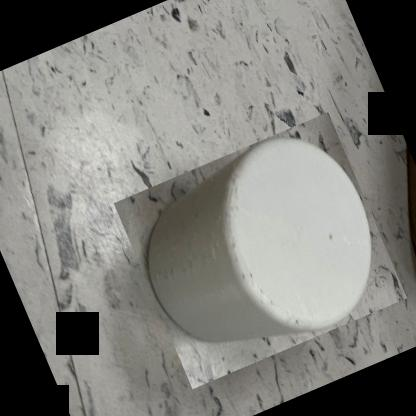white cylinder: (113, 112, 407, 388)
